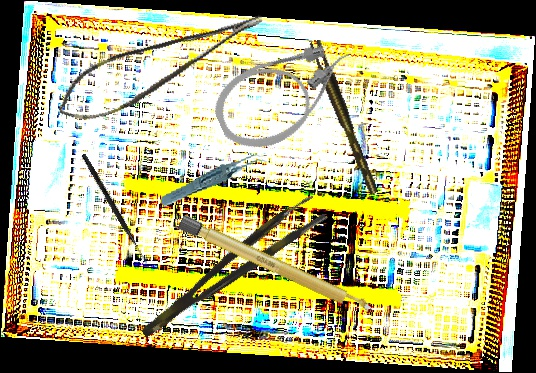Cannula: (204, 29, 370, 162)
Hook Surgical: (79, 153, 151, 265)
Micro Scissor: (46, 6, 277, 133)
Scalpel Handle: (177, 214, 375, 318)
Tissue Forceps: (130, 192, 328, 341), (308, 37, 379, 198), (155, 152, 273, 208)
